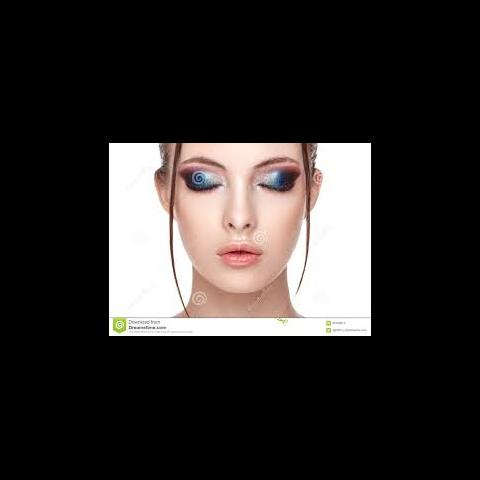closed: (177, 153, 305, 201)
